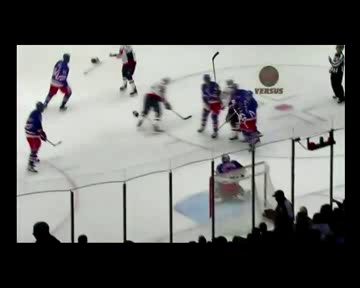normal: (196, 68, 263, 145), (21, 99, 62, 176)
